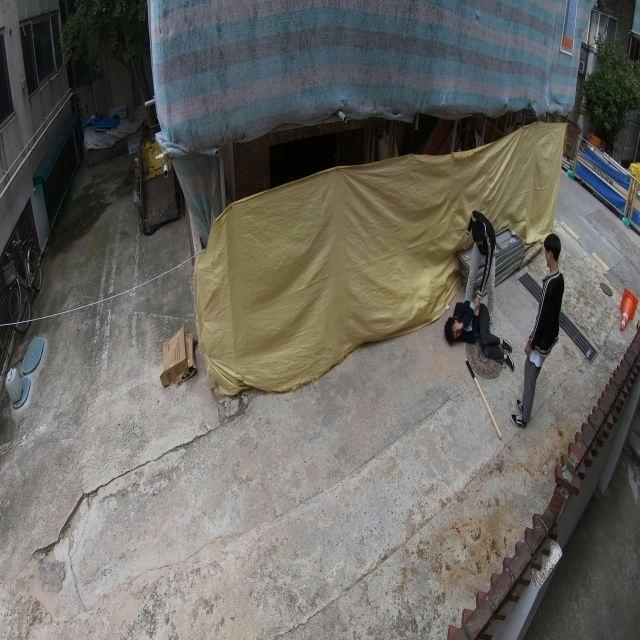fight: (444, 206, 514, 372)
non-fight: (513, 232, 565, 431)
